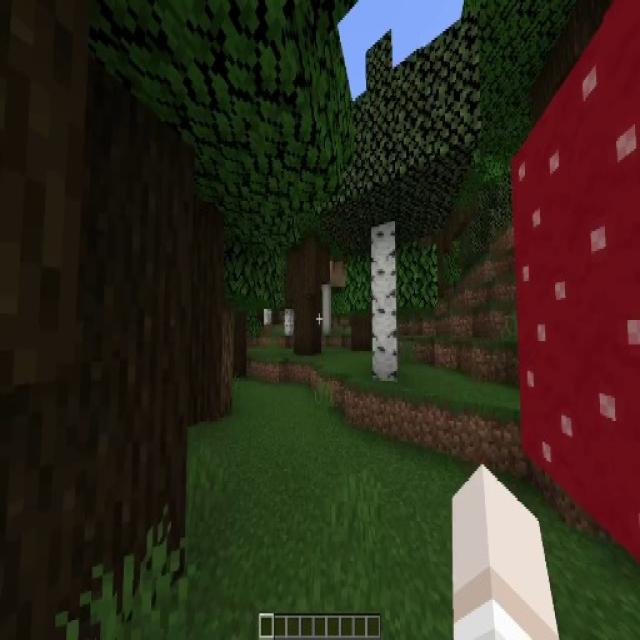birch: (306, 27, 486, 381)
birch_log: (372, 228, 398, 383), (285, 310, 294, 334), (264, 309, 270, 326)
dark_oak_log: (0, 58, 202, 604), (291, 234, 324, 351)
